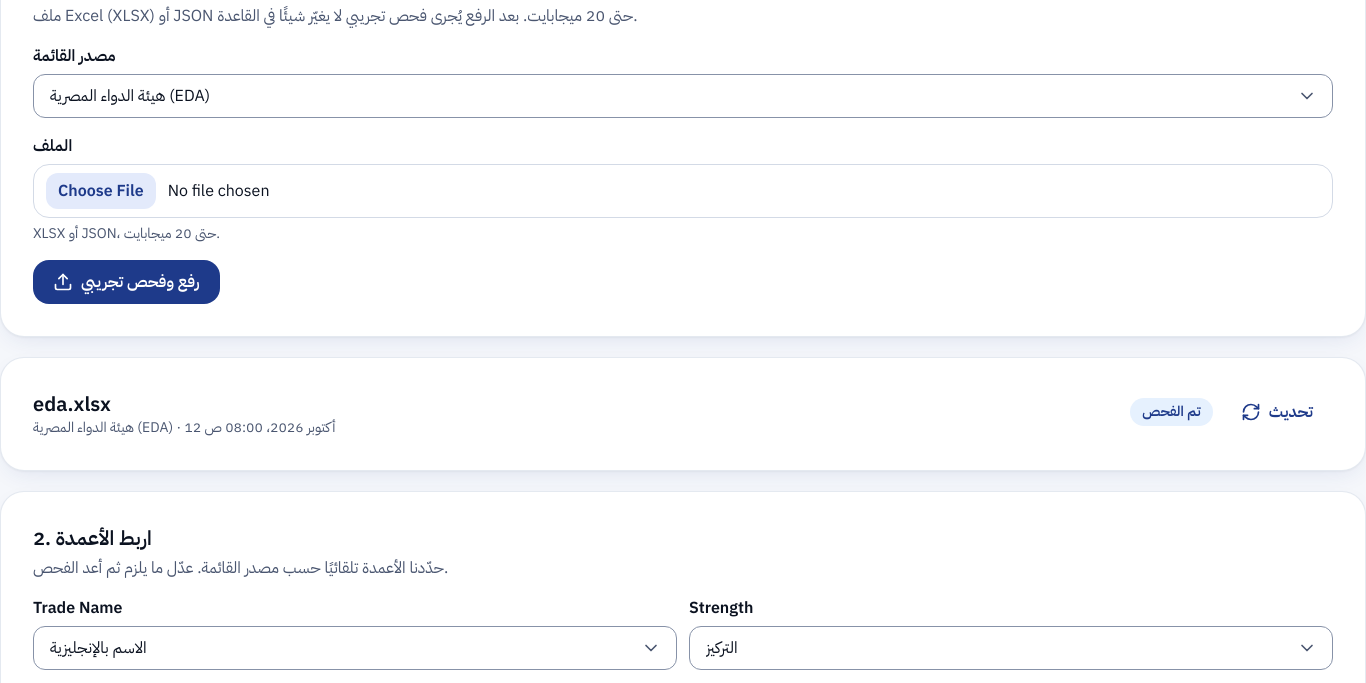
Test: DrugImportsView › refuses the same field for two columns
Select "الاسم بالإنجليزية" in the dropdown labelled "Strength" at {"x": 1011, "y": 648}, box [689,626,1333,670]
(page scrolled)
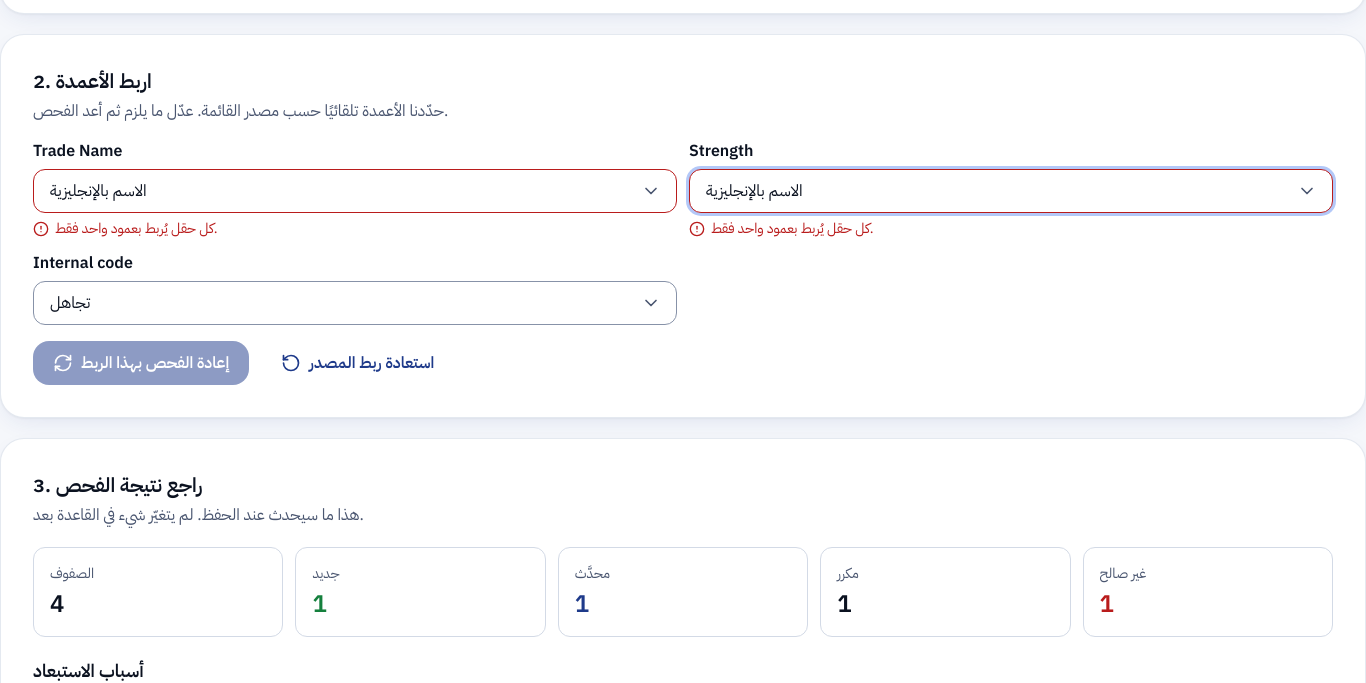
expect the text "كل حقل يُربط بعمود واحد فقط." below "Trade Name" is shown: met, box [55,218,218,239]
expect the button "إعادة الفحص بهذا الربط" is disabled: met, box [33,341,249,385]
